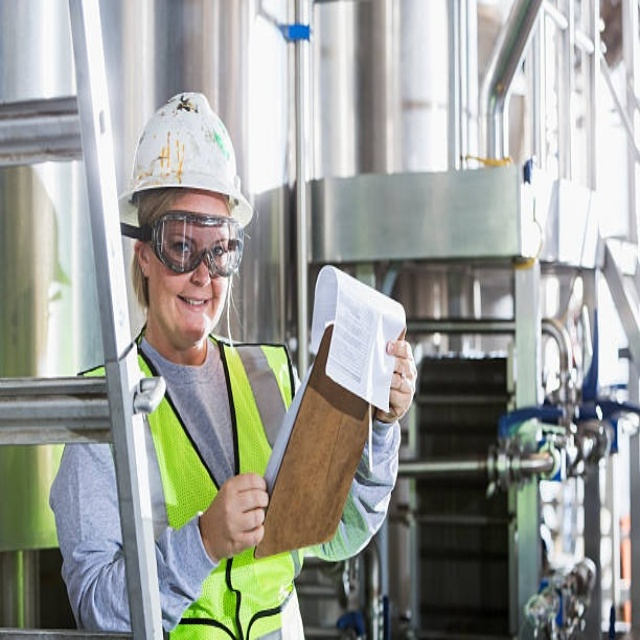Gafas: (152, 210, 245, 282)
Sin_guantes: (202, 472, 271, 562), (375, 331, 418, 423)
Sin_mascara: (174, 287, 213, 337)
